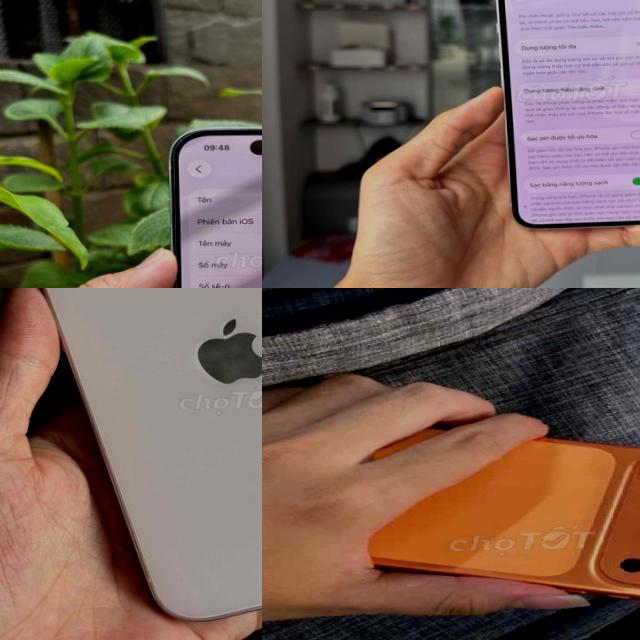gen_12_13: (0, 288, 262, 634), (489, 0, 640, 236)
gen_14: (163, 109, 262, 288)
gen_17: (369, 438, 640, 600)
